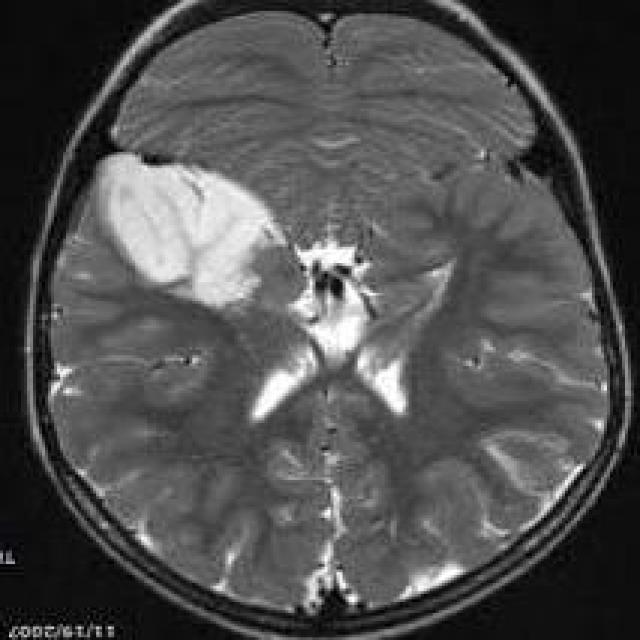Tumor-Cell: (93, 146, 301, 309)
